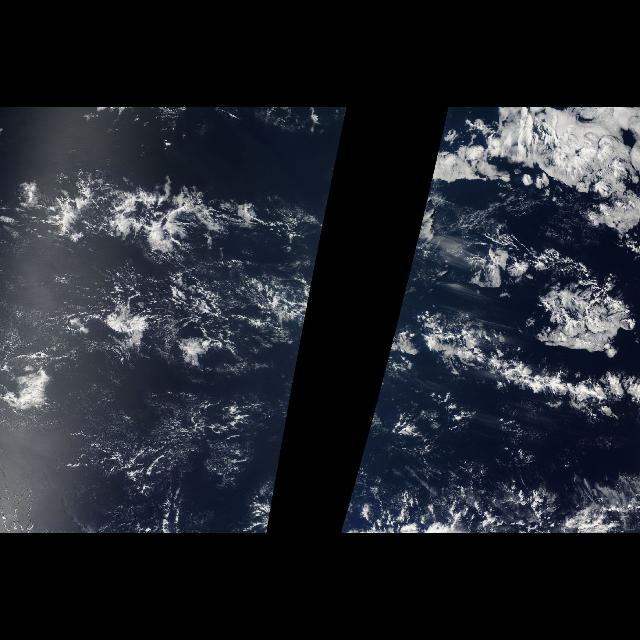Fish: (378, 318, 640, 426), (4, 177, 332, 261)
Sugar: (52, 356, 178, 522)
